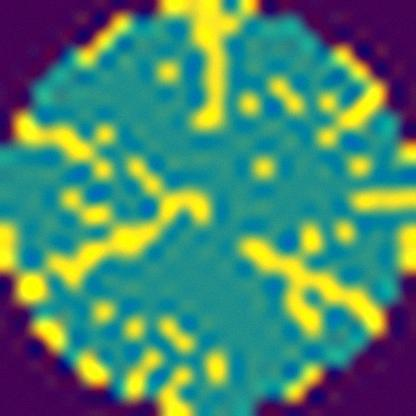Scratch: (39, 155, 228, 296), (235, 222, 398, 352), (154, 0, 270, 142)
